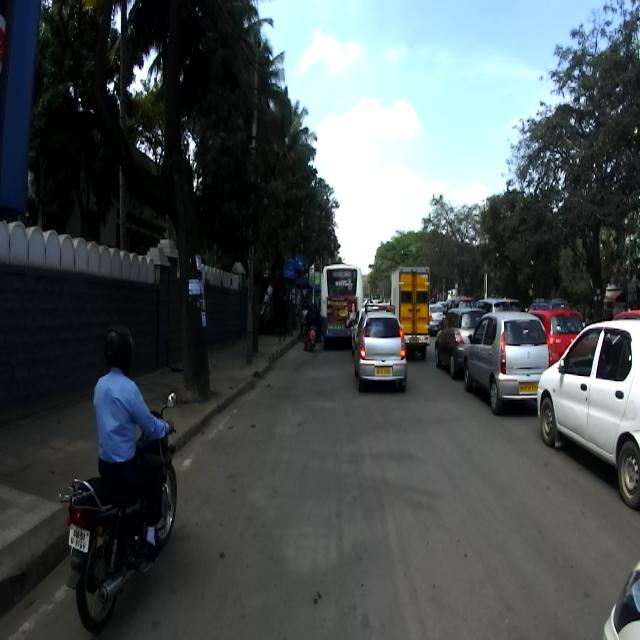car ahead at: (535, 315, 640, 508), (467, 306, 541, 409), (356, 306, 405, 395)
motorcycle ahead at: (64, 452, 181, 628)
